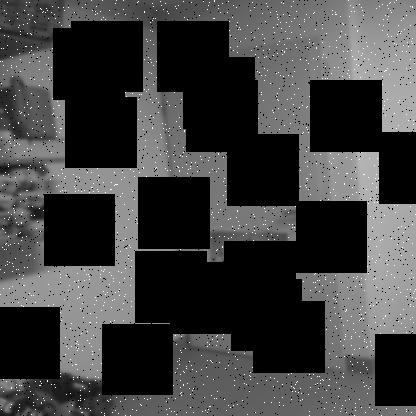Porte: (155, 36, 347, 378)
